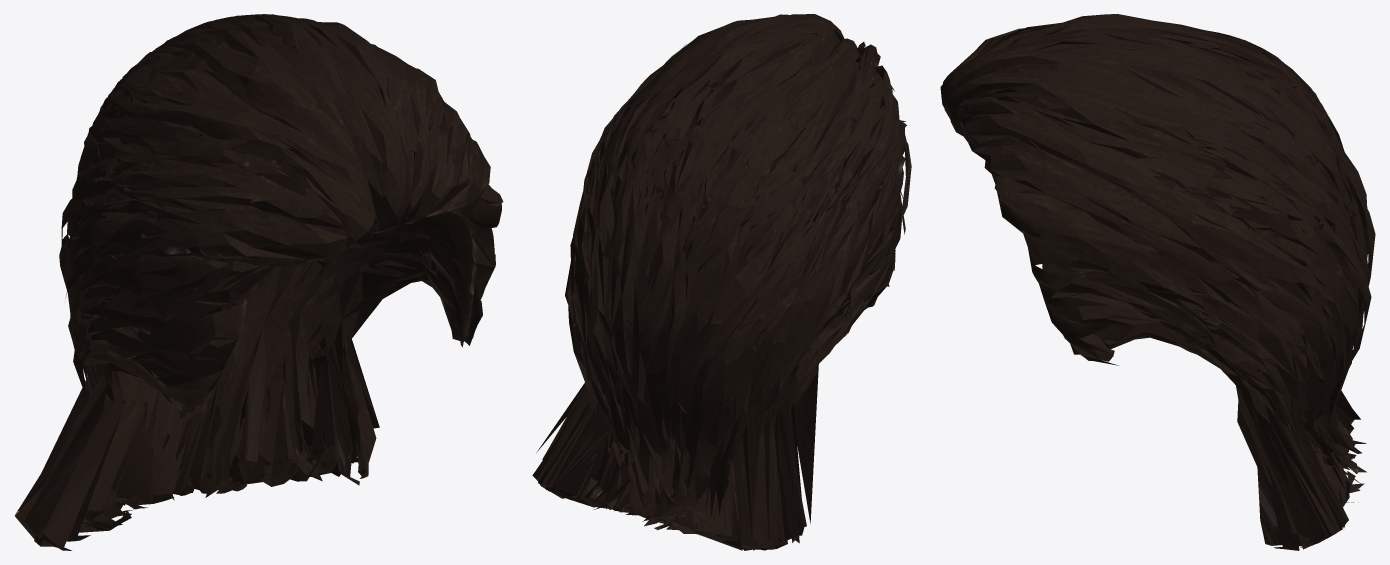
The model's file is Hair_MediumSweptBack.glb.
3 views of the same model, side by side, from view 1: azimuth 30°, elevation 25°; view 2: azimuth 150°, elevation 25°; view 3: azimuth 270°, elevation 25° (orthographic). The views are drawn at different scales.
Visible parts, largest first — view 1: HairMesh; view 2: HairMesh; view 3: HairMesh.
Part boxes in pixels (x1,y1,x2,y2): HairMesh: (15, 14, 503, 550); HairMesh: (532, 14, 911, 550); HairMesh: (940, 14, 1375, 550).
Bounding box in the file's own units: 0.1799 × 0.2607 × 0.2249.
Materials: 1 (1 with a texture image).
